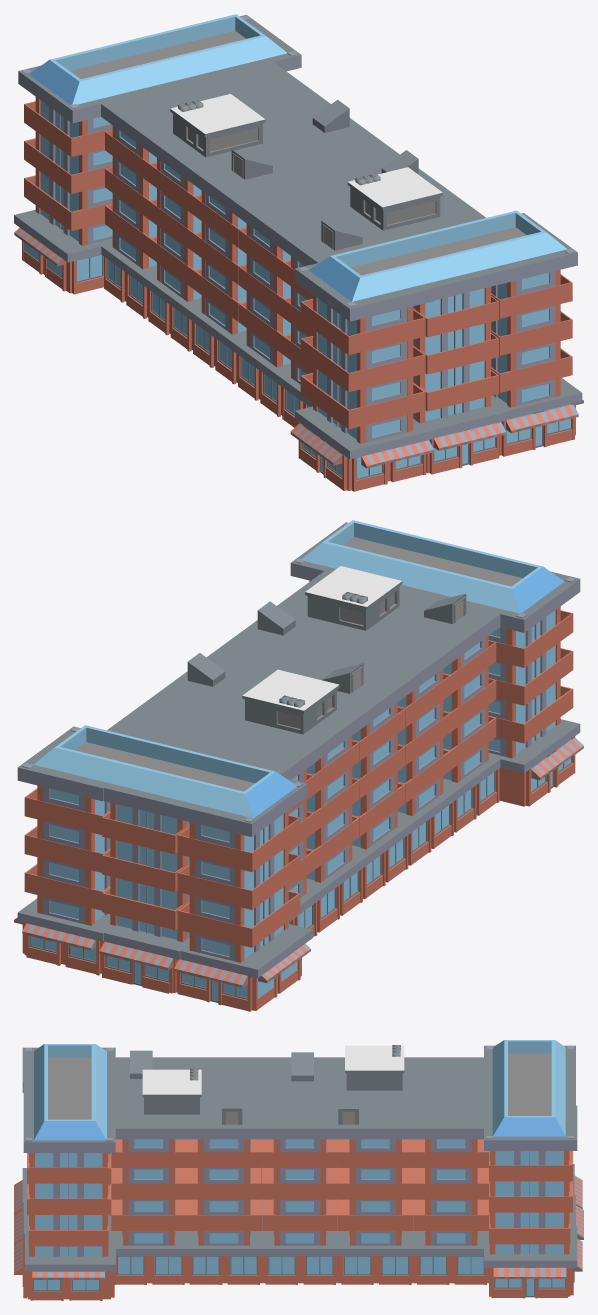
File: putong_dajianzhu04.fbx
The picture shows the model from 3 angles, top to bottom: view 1: azimuth 30°, elevation 25°; view 2: azimuth 150°, elevation 25°; view 3: azimuth 270°, elevation 25°; orthographic projection. The views are drawn at different scales.
Parts seen in each view (by area): view 1: putong_dajianzhu04061, putong_dajianzhu04009, putong_dajianzhu04057, putong_dajianzhu04053, putong_dajianzhu04063, putong_dajianzhu04025, putong_dajianzhu04062, putong_dajianzhu04041, putong_dajianzhu04017, putong_dajianzhu04033, putong_dajianzhu04045, putong_dajianzhu04011 (+22 smaller); view 2: putong_dajianzhu04009, putong_dajianzhu04061, putong_dajianzhu04001, putong_dajianzhu04005, putong_dajianzhu04025, putong_dajianzhu04011, putong_dajianzhu04041, putong_dajianzhu04010, putong_dajianzhu04049, putong_dajianzhu04002, putong_dajianzhu04033, putong_dajianzhu04063 (+22 smaller); view 3: putong_dajianzhu04001, putong_dajianzhu04053, putong_dajianzhu04045, putong_dajianzhu04029, putong_dajianzhu04021, putong_dajianzhu04013, putong_dajianzhu04037, putong_dajianzhu04015, putong_dajianzhu04038, putong_dajianzhu04047, putong_dajianzhu04002, putong_dajianzhu04030 (+22 smaller).
Boxes of the visible parts, box(x1,y1,x2,y2) form: putong_dajianzhu04061: box(295, 241, 433, 389); putong_dajianzhu04009: box(18, 45, 146, 191); putong_dajianzhu04057: box(377, 225, 506, 354); putong_dajianzhu04053: box(456, 210, 577, 353); putong_dajianzhu04063: box(300, 336, 425, 443); putong_dajianzhu04025: box(141, 94, 270, 248); putong_dajianzhu04062: box(290, 406, 433, 491); putong_dajianzhu04041: box(230, 176, 360, 313); putong_dajianzhu04017: box(97, 79, 213, 219); putong_dajianzhu04033: box(186, 149, 311, 280); putong_dajianzhu04045: box(347, 167, 485, 239); putong_dajianzhu04011: box(24, 138, 112, 245); putong_dajianzhu04009: box(171, 756, 307, 907); putong_dajianzhu04061: box(439, 551, 580, 703); putong_dajianzhu04001: box(17, 725, 146, 870); putong_dajianzhu04005: box(102, 738, 213, 872); putong_dajianzhu04025: box(239, 669, 368, 827); putong_dajianzhu04011: box(177, 853, 300, 962); putong_dajianzhu04041: box(321, 623, 459, 760); putong_dajianzhu04010: box(174, 924, 312, 1011); putong_dajianzhu04049: box(377, 593, 500, 727); putong_dajianzhu04002: box(24, 826, 110, 925); putong_dajianzhu04033: box(305, 659, 414, 794); putong_dajianzhu04063: box(488, 648, 573, 758); putong_dajianzhu04001: box(484, 1092, 577, 1196); putong_dajianzhu04053: box(23, 1096, 115, 1198); putong_dajianzhu04045: box(111, 1069, 201, 1199); putong_dajianzhu04029: box(259, 1090, 341, 1199); putong_dajianzhu04021: box(335, 1090, 416, 1199); putong_dajianzhu04013: box(410, 1090, 492, 1199); putong_dajianzhu04037: box(183, 1095, 265, 1199); putong_dajianzhu04015: box(413, 1168, 488, 1245); putong_dajianzhu04038: box(186, 1168, 261, 1245); putong_dajianzhu04047: box(111, 1168, 186, 1245); putong_dajianzhu04002: box(489, 1181, 570, 1254); putong_dajianzhu04030: box(262, 1168, 337, 1245).
Bounding box in the file's own units: 12.68 × 10.21 × 29.06.
